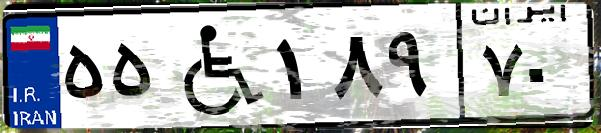0: (525, 38, 570, 115)
1: (270, 28, 330, 110)
5: (57, 26, 110, 100), (110, 28, 158, 98)
7: (475, 38, 525, 113)
8: (330, 28, 385, 110)
9: (385, 28, 445, 110)
ژ (معلولین و جانبازان): (158, 12, 270, 120)
